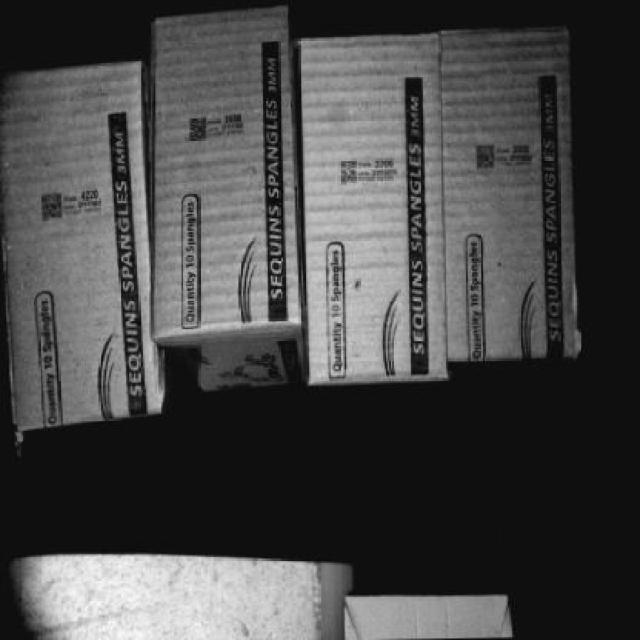cardboxes: (0, 68, 160, 427), (300, 38, 452, 387), (156, 15, 299, 340), (446, 27, 576, 359)
